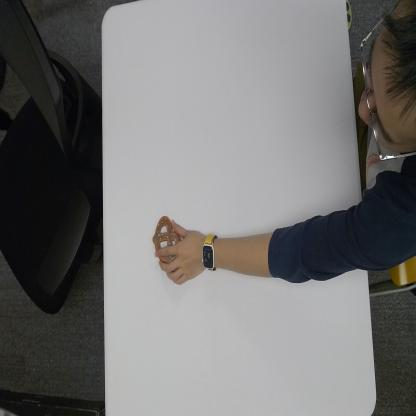Hand: (155, 218, 201, 286)
Pretzel: (152, 212, 182, 262)
